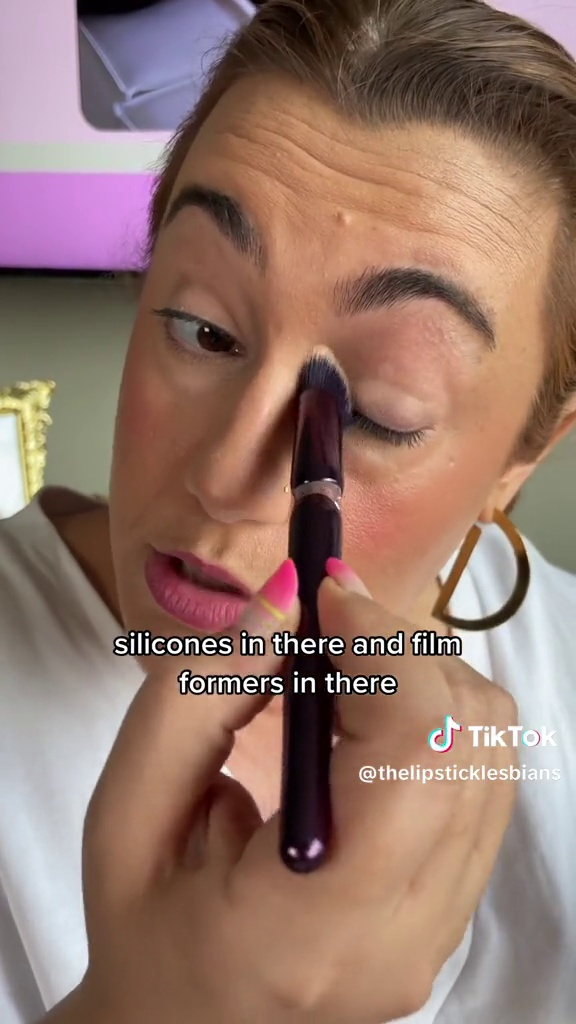train' :'yolo_data/train/images',: (259, 339, 368, 885)
